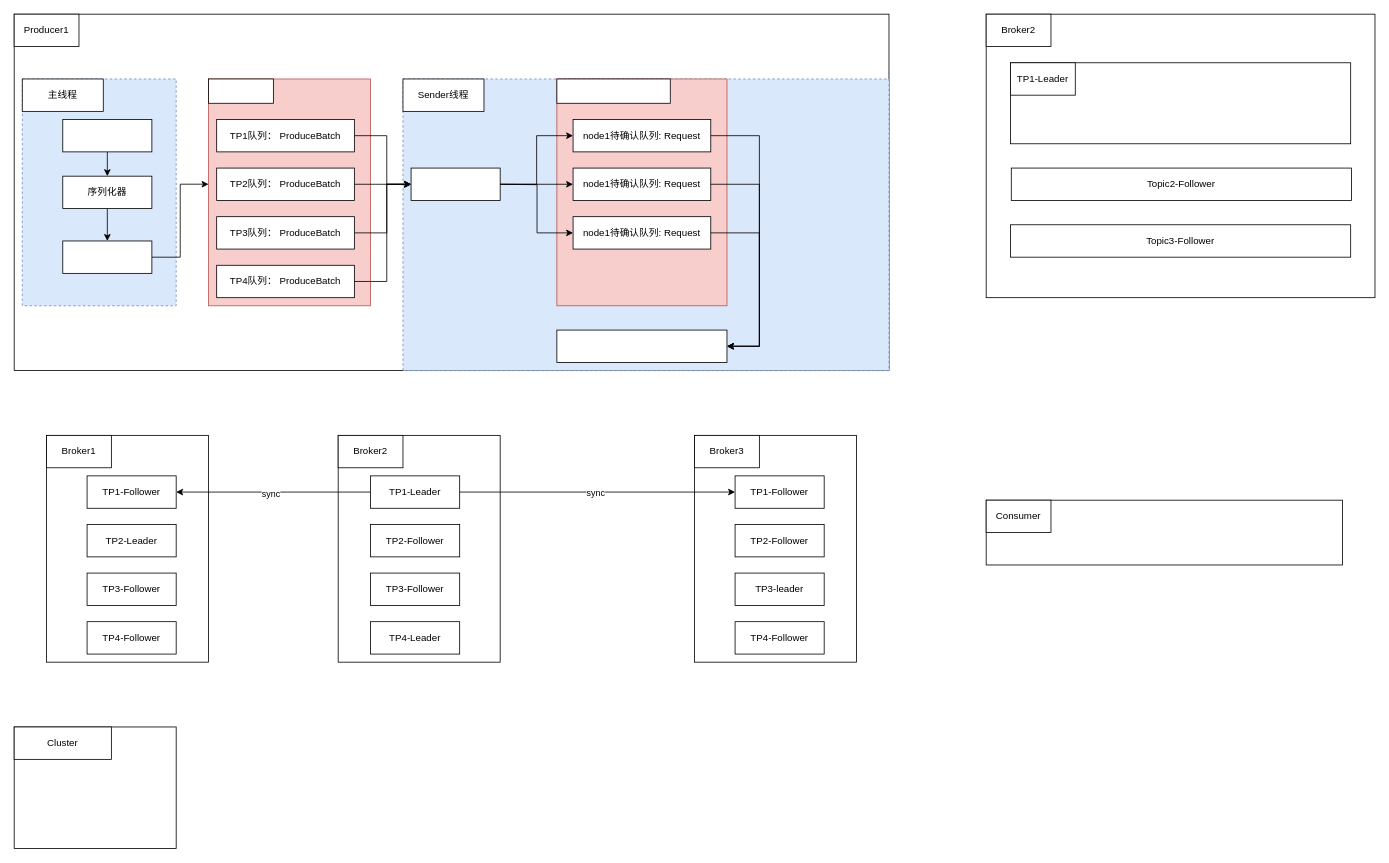
Image size: 1389x863. Some labels were removed from this diagram. The shapes that lost their labels are listed below. From the top down, each one's centre as x and y in pixels, then its label:
At [240,90]: "消息聚合器".
At [613,90]: "待确认：用于删除Batch".
At [107,135]: "拦截器".
At [455,183]: "创建Request".
At [107,256]: "分区器".
At [641,345]: "Selector".
